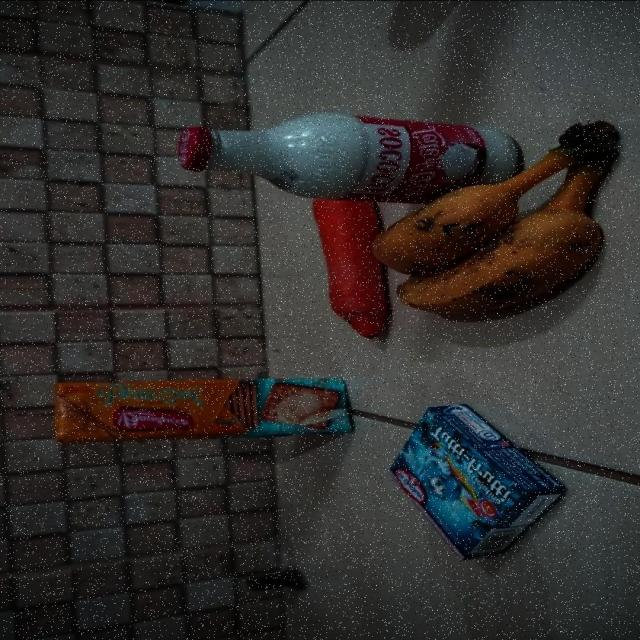Banana: (373, 117, 623, 315)
Carrot: (311, 197, 392, 341)
CoconutMilk: (177, 112, 522, 204)
Cracker: (49, 375, 350, 447)
Gelatine: (386, 402, 566, 560)
